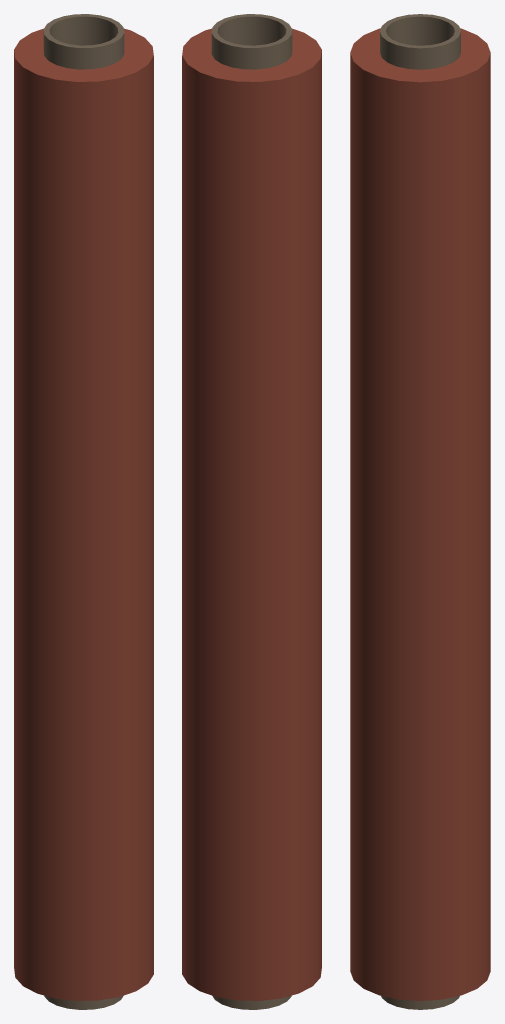
Rendered from RolRood1.fbx.
The picture shows the model from 3 angles, left to right: view 1: azimuth 30°, elevation 25°; view 2: azimuth 150°, elevation 25°; view 3: azimuth 270°, elevation 25°; orthographic projection.
Parts seen in each view (by area): view 1: textielrol9; view 2: textielrol9; view 3: textielrol9.
Part boxes in pixels (x1=…): textielrol9: x1=14, y1=14, x2=153, y2=1009; textielrol9: x1=182, y1=14, x2=321, y2=1009; textielrol9: x1=350, y1=14, x2=490, y2=1009.
Bounding box in the file's own units: 0.2449 × 1.85 × 0.2449.
